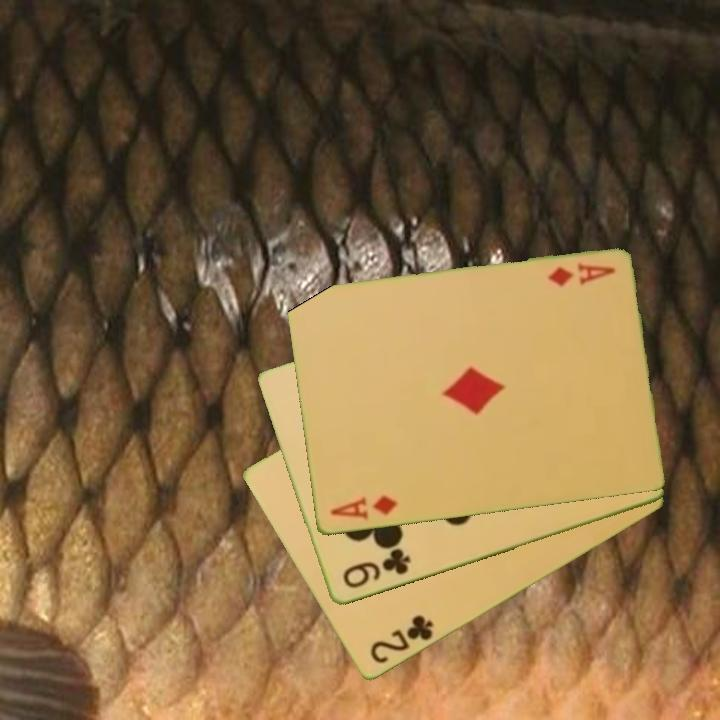2c: (366, 612, 436, 668)
9c: (339, 546, 414, 592)
Ad: (326, 492, 400, 524), (543, 259, 618, 290)
